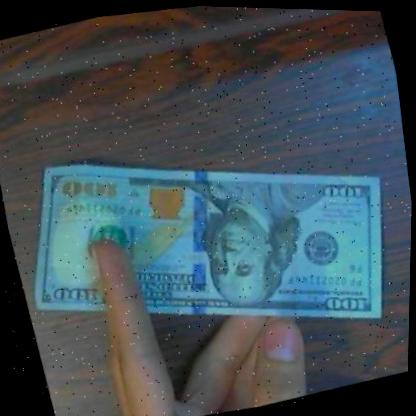one_hundred-front: (0, 79, 415, 408)
